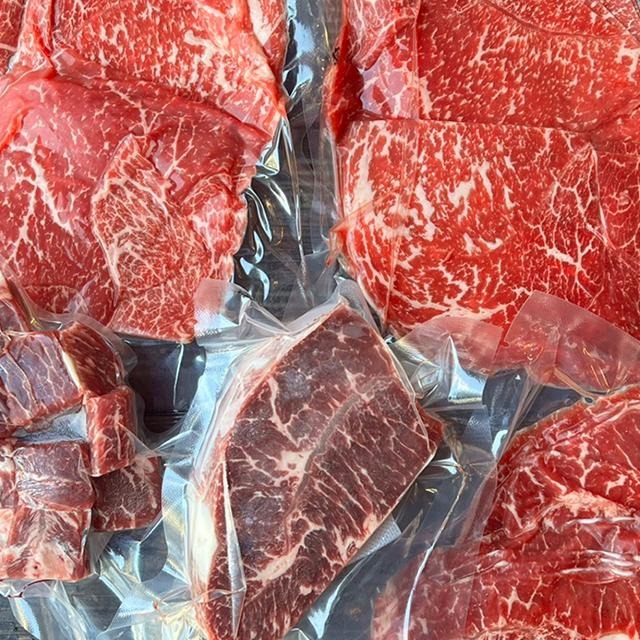beef: (0, 0, 283, 316), (372, 0, 640, 330), (146, 346, 406, 591), (0, 299, 154, 584), (499, 417, 640, 640)
